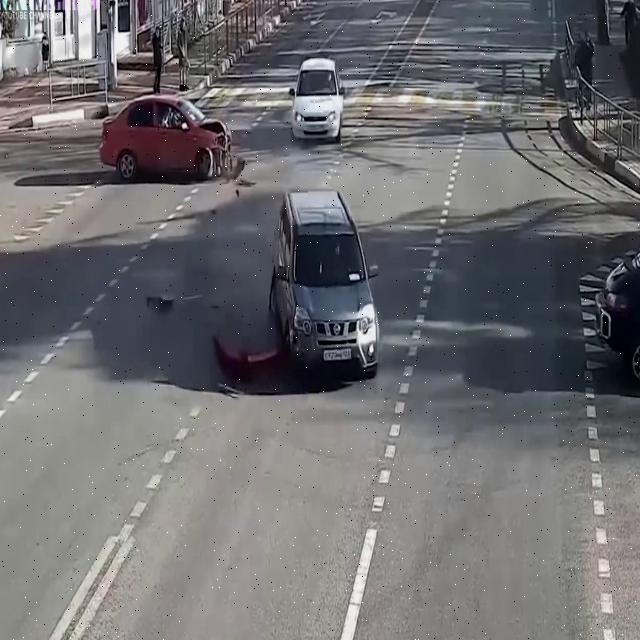accident: (207, 189, 384, 389), (99, 81, 250, 189)
